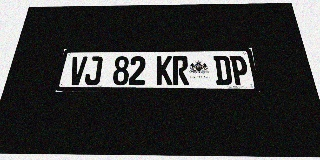2: (128, 56, 146, 85)
8: (112, 56, 130, 85)
D: (213, 55, 233, 85)
J: (84, 56, 103, 85)
K: (156, 56, 172, 85)
P: (229, 55, 250, 85)
R: (172, 56, 189, 85)
V: (67, 56, 87, 85)
